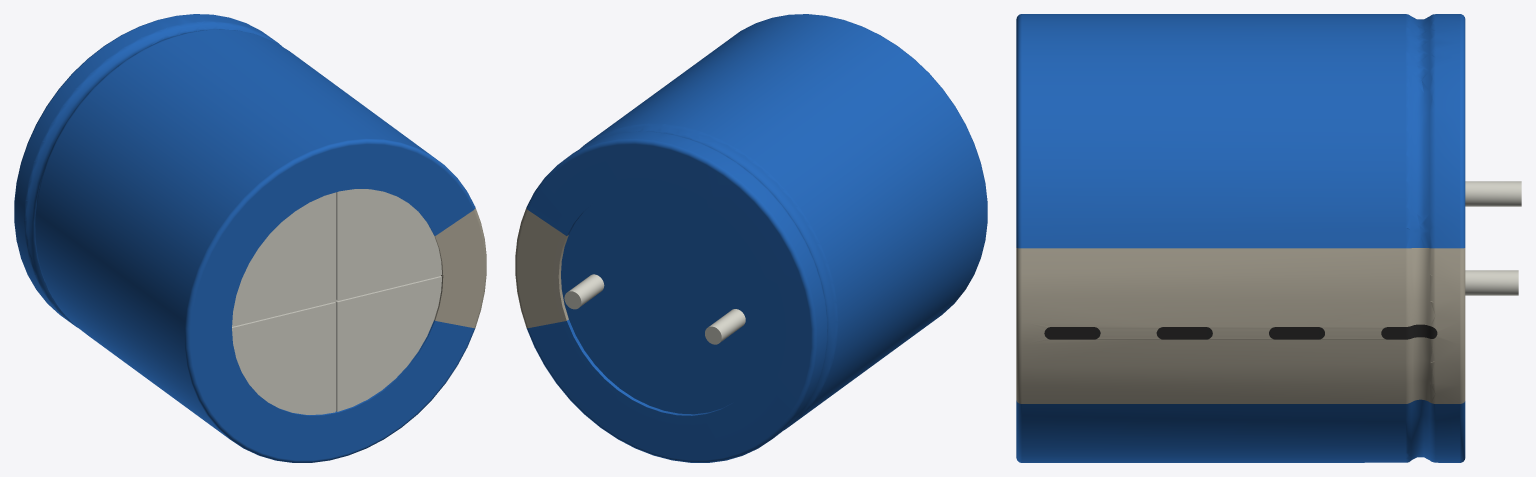
The model's file is cp-radial-d16.0-p7.50.glb.
3 renders of one model, left to right at view 1: azimuth 30°, elevation 25°; view 2: azimuth 150°, elevation 25°; view 3: azimuth 270°, elevation 25°, orthographic. The views are drawn at different scales.
Parts seen in each view (by area): view 1: PLASTIC-BLUE-01, PIN-01, IC-LABEL-01; view 2: PLASTIC-BLUE-01, IC-LABEL-01, PIN-01; view 3: PLASTIC-BLUE-01, IC-LABEL-01, PIN-01, IC-BODY-EPOXY-04.
Boxes of the visible parts, bbox=[...] form: PLASTIC-BLUE-01: bbox=[14, 14, 475, 462]; PIN-01: bbox=[232, 189, 441, 414]; IC-LABEL-01: bbox=[434, 208, 486, 328]; PLASTIC-BLUE-01: bbox=[526, 14, 987, 462]; IC-LABEL-01: bbox=[515, 208, 568, 328]; PIN-01: bbox=[564, 274, 745, 344]; PLASTIC-BLUE-01: bbox=[1016, 14, 1465, 462]; IC-LABEL-01: bbox=[1016, 248, 1465, 403]; PIN-01: bbox=[1465, 181, 1521, 295]; IC-BODY-EPOXY-04: bbox=[1044, 324, 1437, 339].
Bounding box in the file's own units: 16 × 16 × 18.
